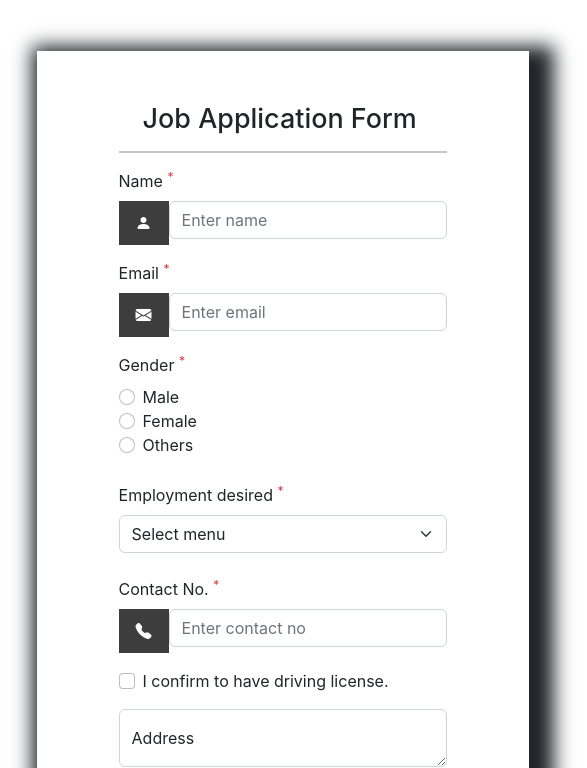
Test: Dynamic Form › license number - conditional field check
Step 1. Click the checkbox with test id "driving_license" → (126, 681), box x1=118 y1=673 x2=134 y2=689
(page scrolled)
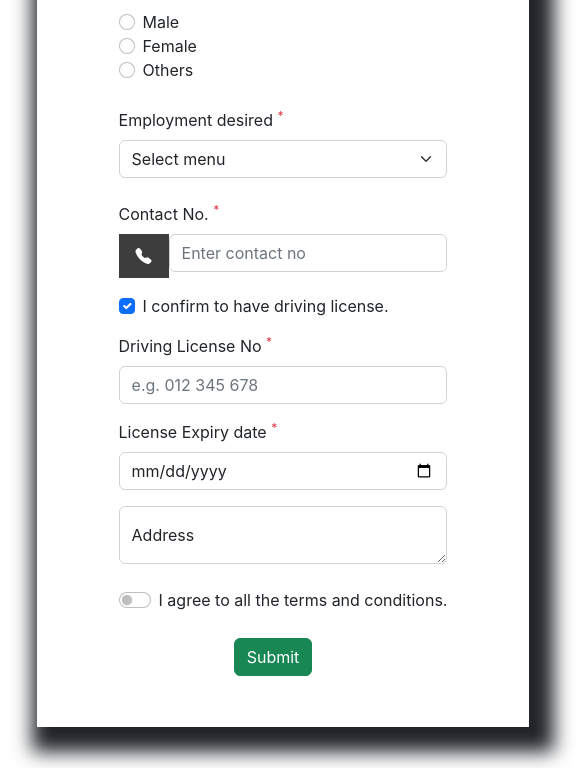
Now the field with test id "identity" is shown
Step 2. Type "12378954" into the field with test id "identity" → (283, 385), box x1=118 y1=366 x2=447 y2=404
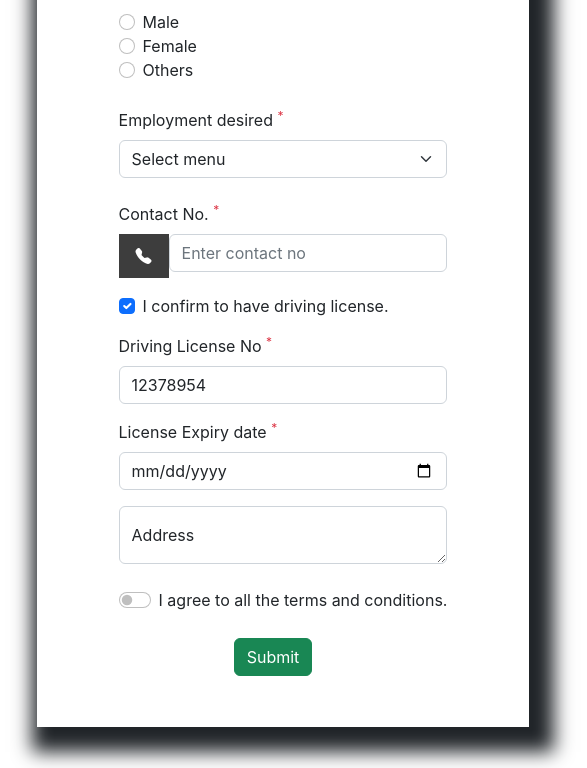
Step 3. Leave the field with test id "identity", box x1=118 y1=366 x2=447 y2=404
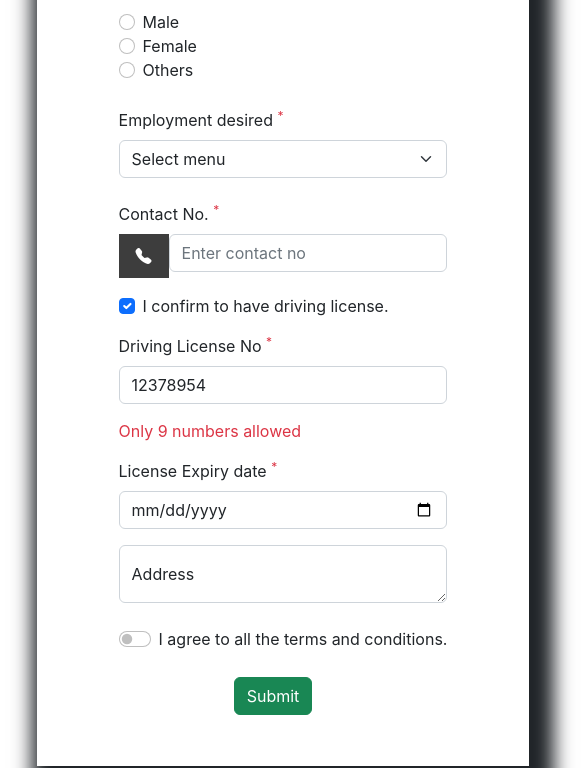
Now the text "Only 9 numbers allowed" is shown, box x1=118 y1=421 x2=301 y2=441
